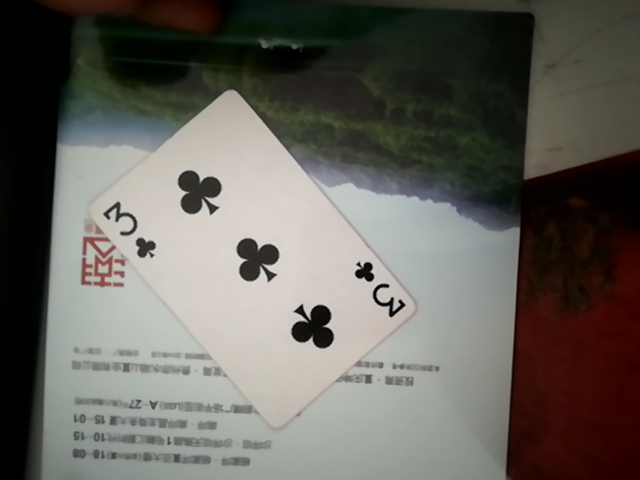mh 3: (70, 90, 409, 415)
